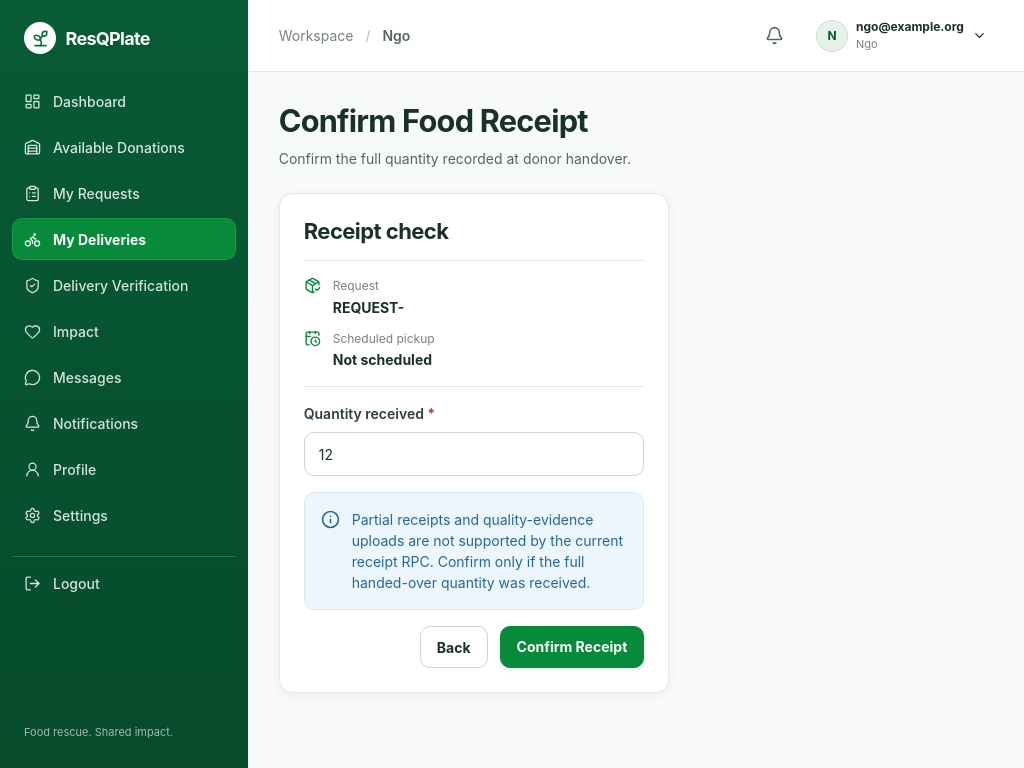
Test: NGO in-app delivery verification › confirms a verified delivery and displays the persisted completed state
Click the button "Confirm Receipt" at (572, 647), box [500,626,644,668]
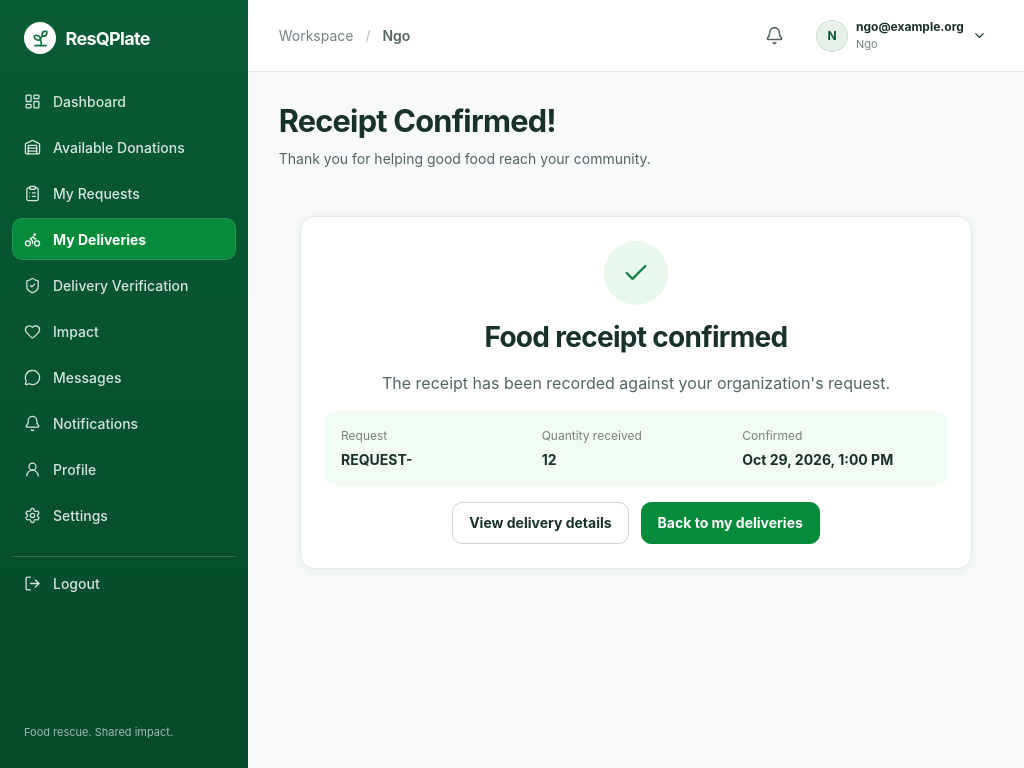
Expected: the heading "Receipt Confirmed!" is shown, [279,102,556,139]
Expected: the heading "Food receipt confirmed" is shown, [484,321,788,355]
